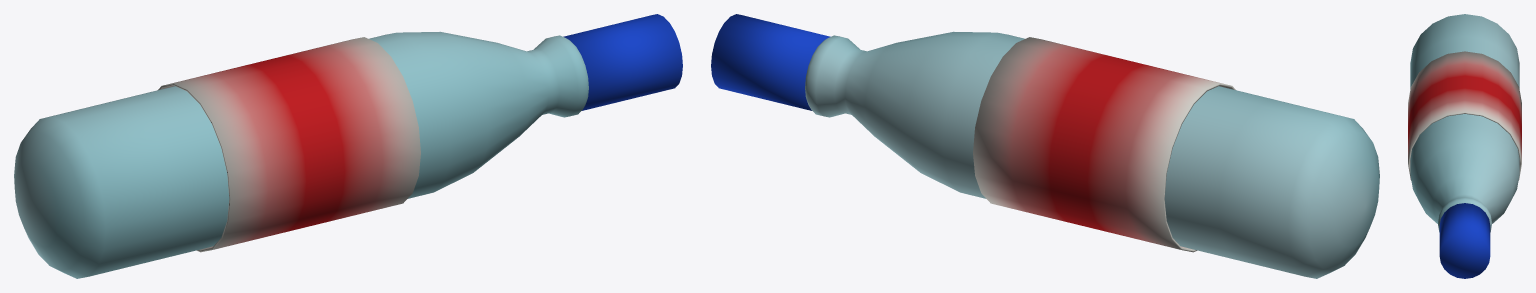
Rendered from botella_pet.fbx.
3 renders of one model, left to right at view 1: azimuth 30°, elevation 25°; view 2: azimuth 150°, elevation 25°; view 3: azimuth 270°, elevation 25°, orthographic. The views are drawn at different scales.
Parts seen in each view (by area): view 1: botella_pet; view 2: botella_pet; view 3: botella_pet.
Part boxes in pixels (<box>): botella_pet: <box>14,14,682,278</box>; botella_pet: <box>711,14,1379,278</box>; botella_pet: <box>1408,14,1521,278</box>.
Size of the model in its own units: 30 by 7.08 by 7.08.
